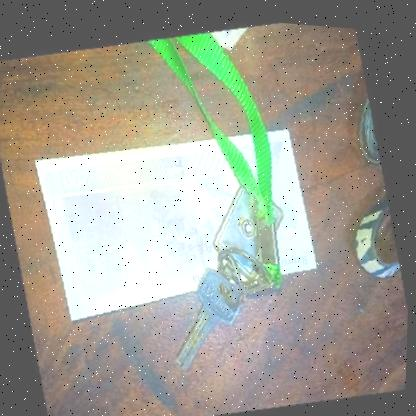two_hundred-back-vef: (29, 104, 327, 339)
